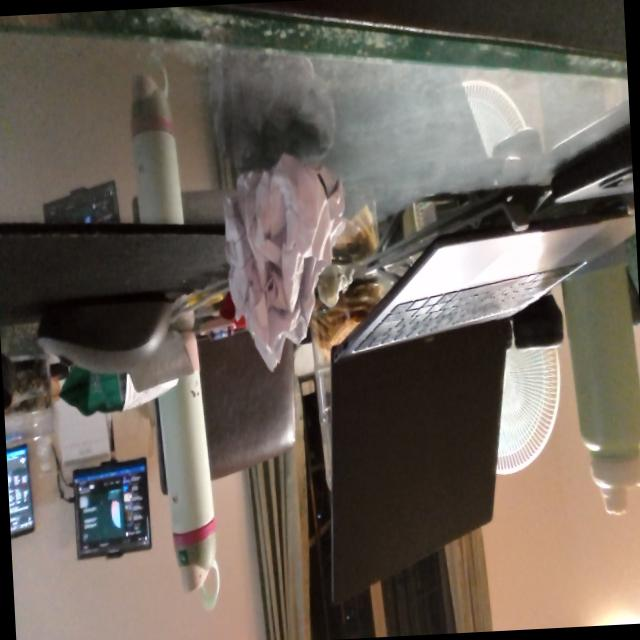crumpled_paper: (221, 146, 356, 374)
